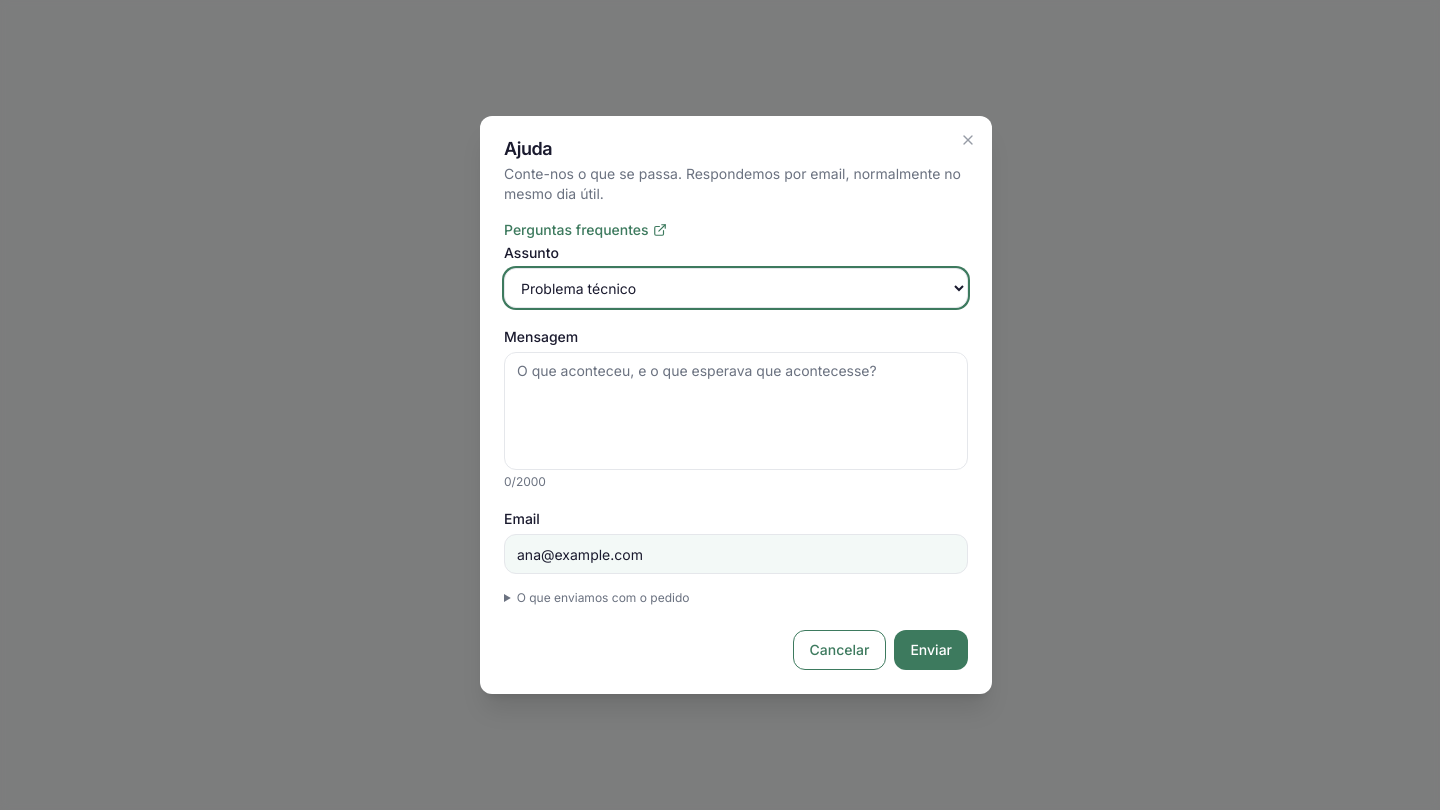
HelpDialog — signed in › says the copy went to the account email (K03)
Type "O botão de pagamento não faz nada quando clico, já tentei duas vezes." into the text box labelled "Mensagem".
click(736, 411); type("O botão de pagamento não faz nada quando clico, já tentei duas vezes.")  # box [504,352,968,470]
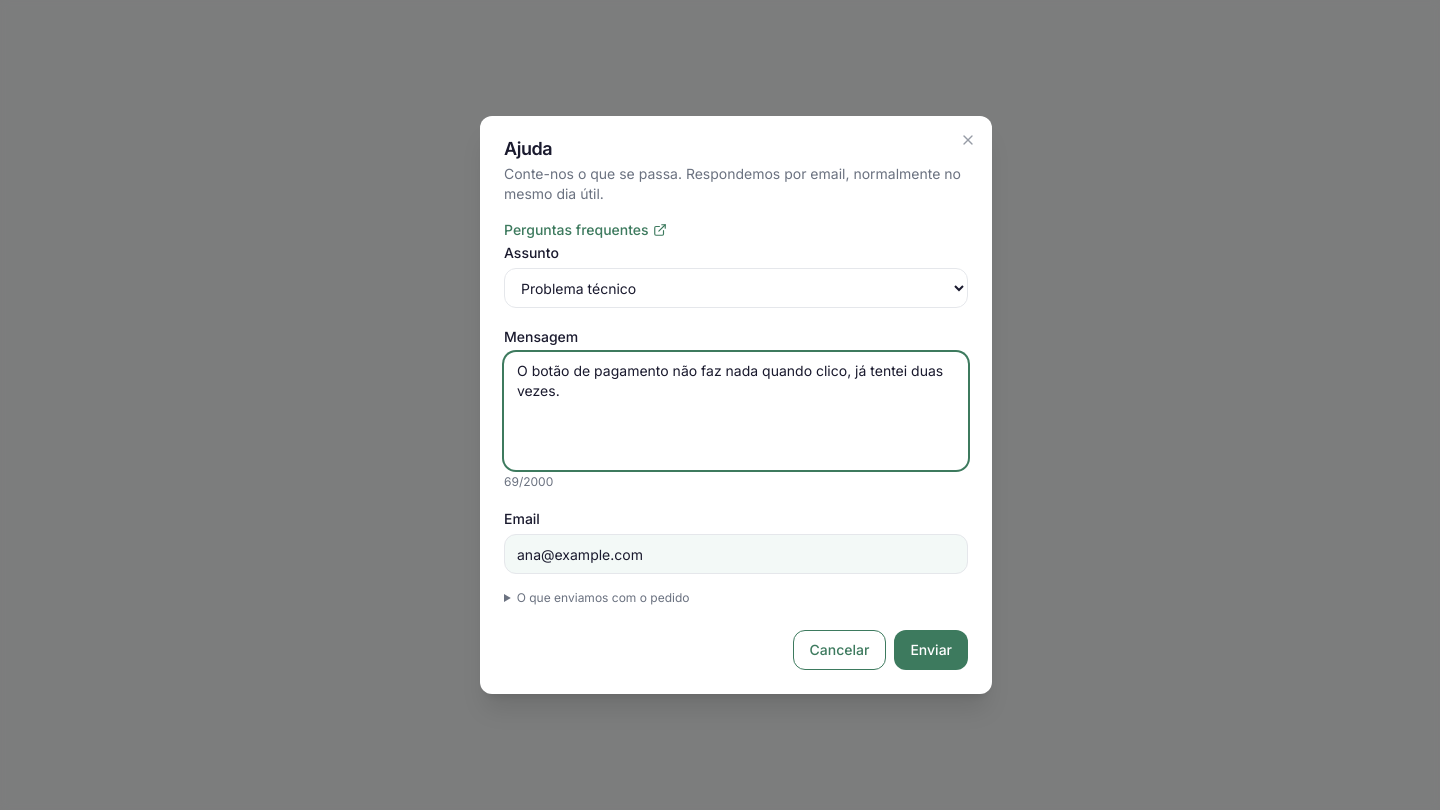
Click the button "Enviar".
click(931, 650)  # box [894,630,968,670]
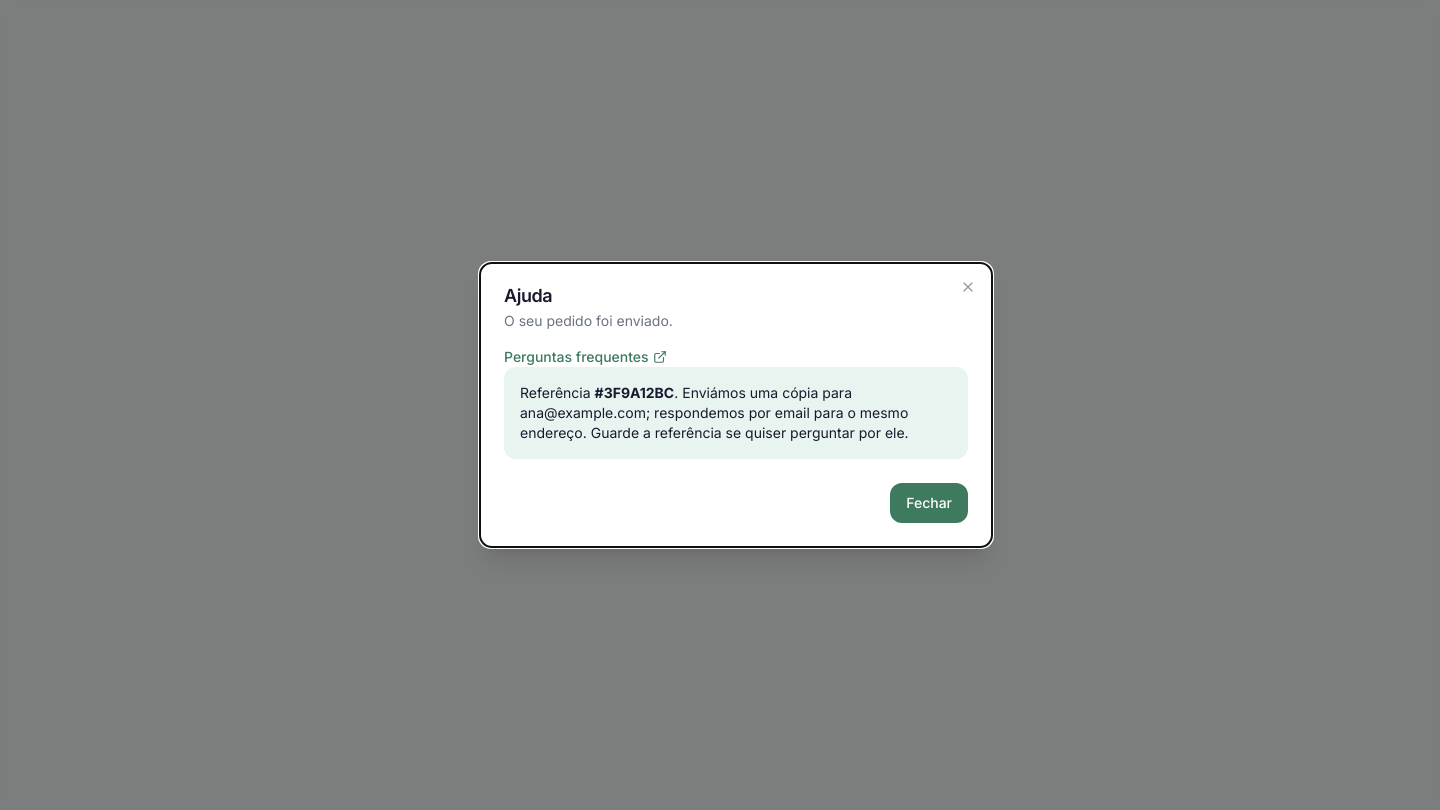
Expected: the message shows "Enviámos uma cópia para ana@example.com", [520,384,909,441]
